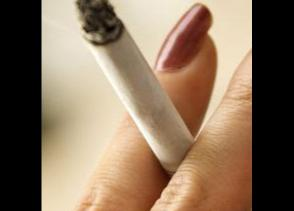Cigarette: (74, 0, 193, 171)
